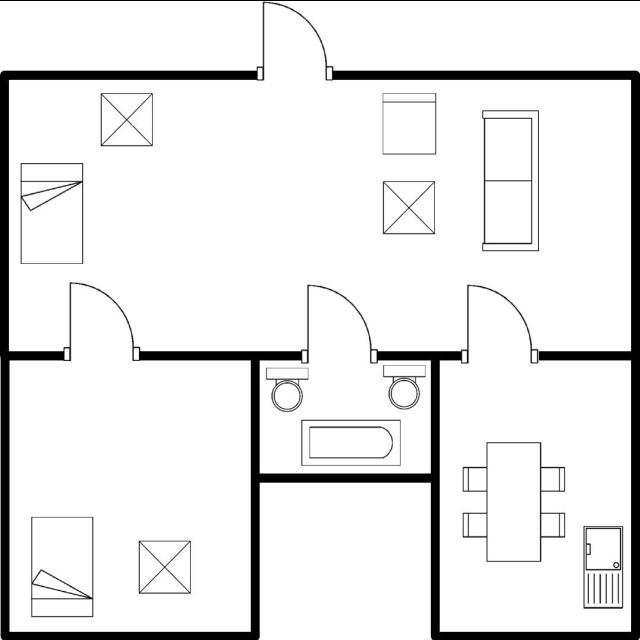bed: (24, 510, 100, 622), (16, 158, 88, 270)
coffee_table: (376, 175, 441, 241), (135, 534, 195, 600), (95, 88, 158, 150)
dining_table: (458, 433, 568, 568)
large_sink: (262, 364, 315, 414), (380, 362, 428, 412)
large_sofa: (476, 102, 544, 258)
sink: (578, 522, 626, 615)
small_sofa: (376, 90, 441, 160)
tub: (296, 416, 404, 470)
